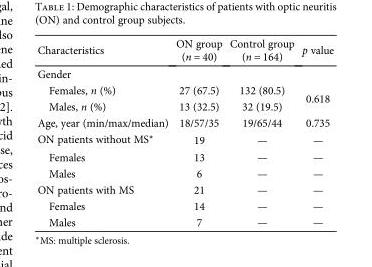table: (36, 36, 333, 228)
table column: (36, 36, 171, 228), (225, 36, 297, 228), (171, 36, 225, 228), (297, 36, 333, 228)
table column header: (36, 36, 333, 65)
table projected row header: (36, 65, 333, 81)
table row: (36, 36, 333, 65), (36, 129, 333, 148), (36, 81, 333, 98), (36, 164, 333, 181), (36, 65, 333, 81), (36, 98, 333, 114), (36, 148, 333, 164), (36, 181, 333, 197), (36, 197, 333, 213), (36, 114, 333, 129), (36, 213, 333, 228)
table spanning cell: (297, 81, 333, 114)
